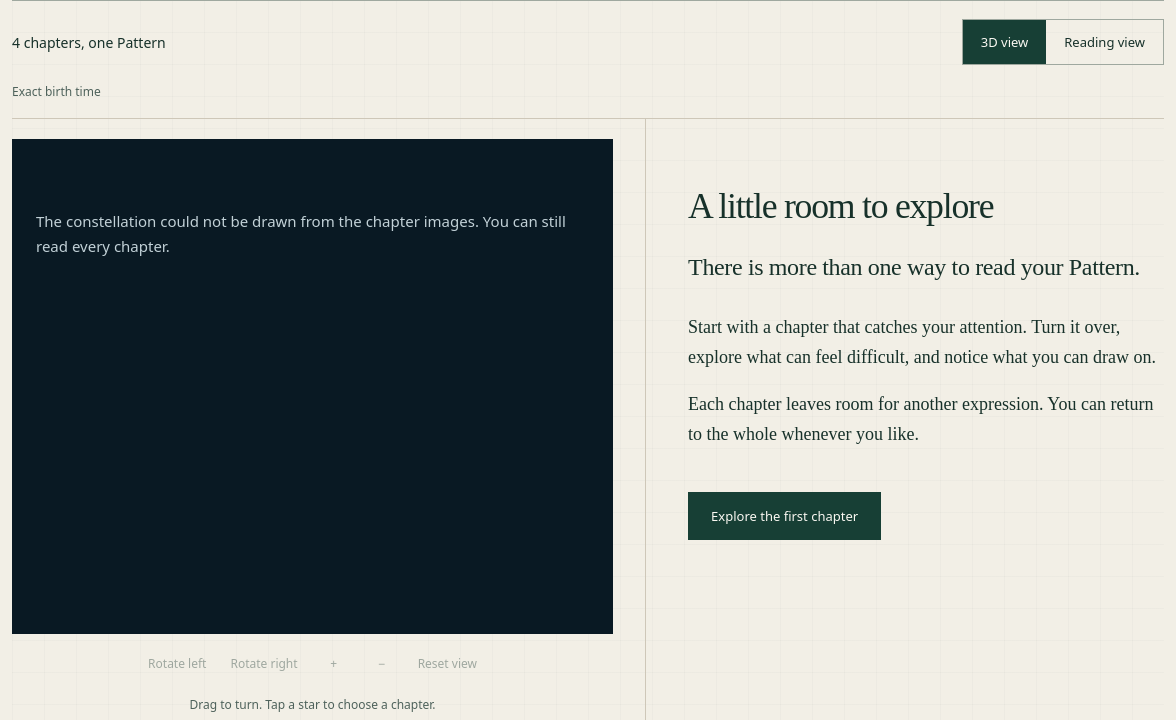
Test: Pattern portrait reader › provides every chapter and expression in a complete reading view
This screenshot has width=1176, height=720.
Step 1. Click the button "Reading view" → (1105, 42), box [1046,20,1163,64]
(page scrolled)
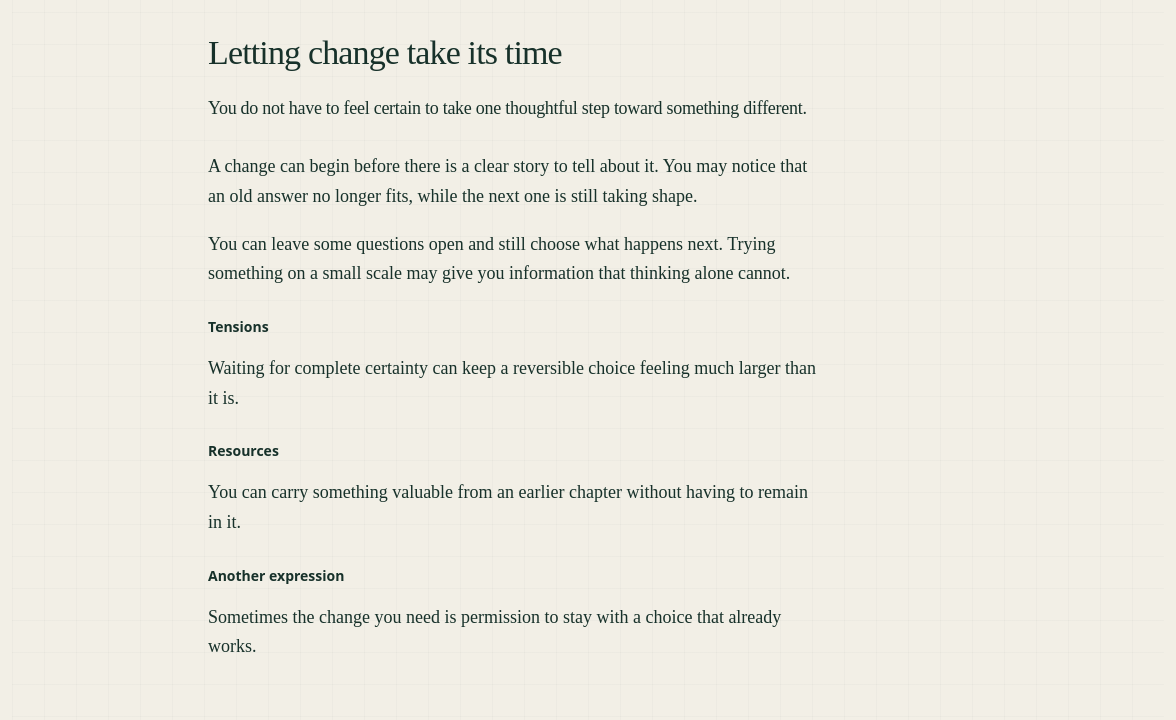
Expected: the heading "Letting change take its time" is shown, [208,34,562,71]
Now the text "Sometimes the change you need is permission to stay with a choice that already works." is shown, box [208,607,781,656]
